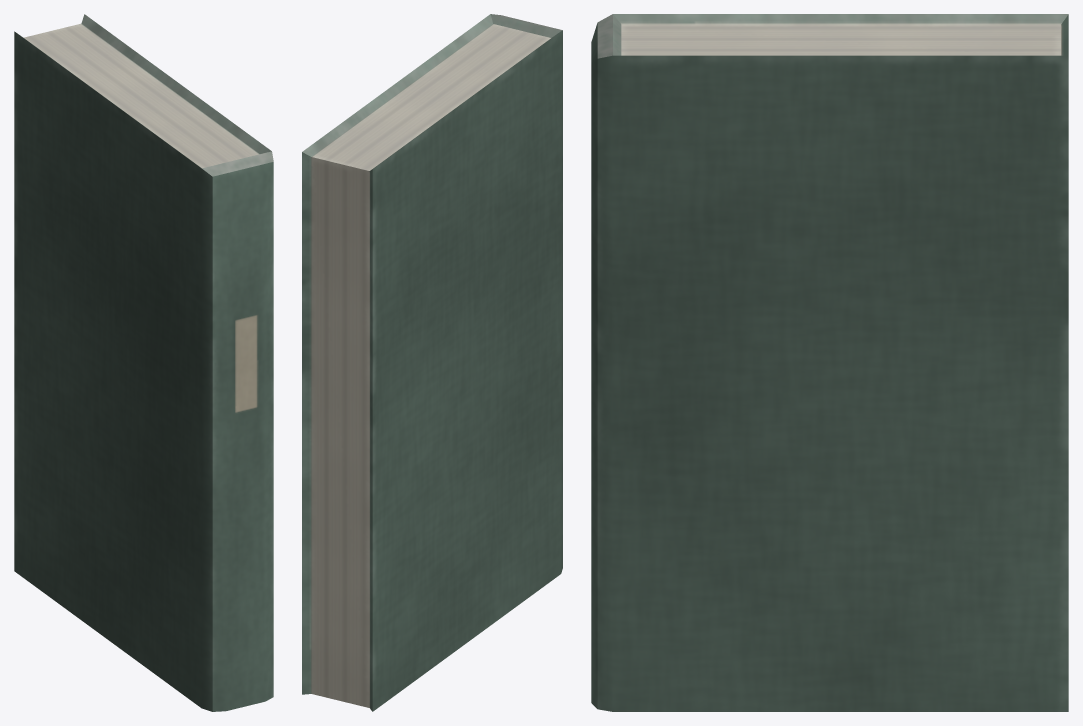
Rendered from Book3.fbx.
3 views of the same model, side by side, from view 1: azimuth 30°, elevation 25°; view 2: azimuth 150°, elevation 25°; view 3: azimuth 270°, elevation 25° (orthographic). The views are drawn at different scales.
Visible parts, largest first — view 1: book 3; view 2: book 3; view 3: book 3.
Boxes of the visible parts, x1,y1,x2,y2 form: book 3: (14,14,273,711); book 3: (302,14,562,711); book 3: (591,14,1068,711).
Size of the model in its own units: 0.032 by 0.235 by 0.155.
Materials: 1 (1 with a texture image).
